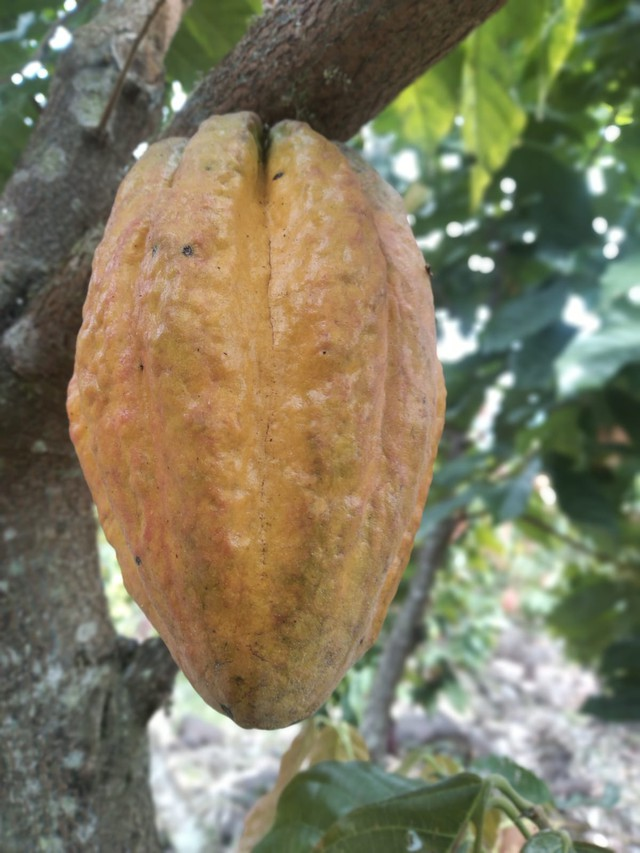Health: (35, 94, 459, 743)
